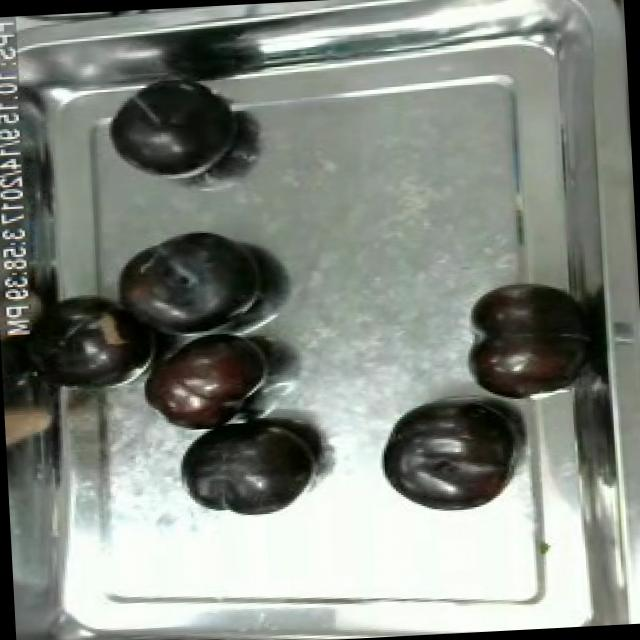Fruit: (104, 214, 278, 337), (374, 394, 524, 517), (97, 76, 250, 188), (462, 274, 592, 404), (174, 416, 326, 526), (129, 328, 276, 436)
